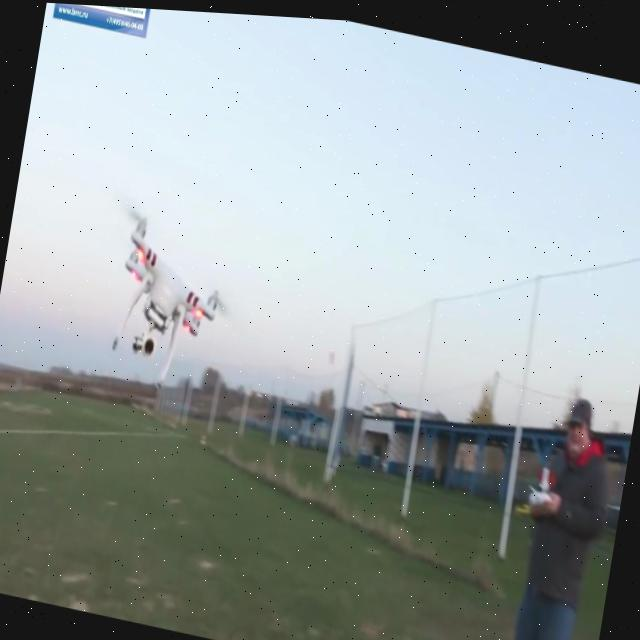drone: (58, 168, 289, 451)
